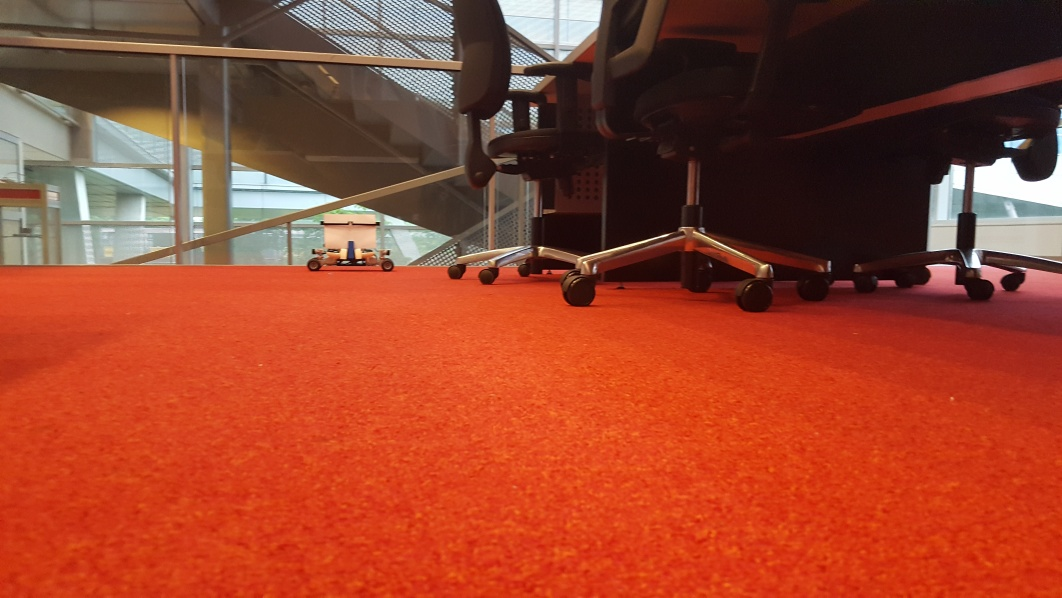car: (307, 212, 395, 277)
